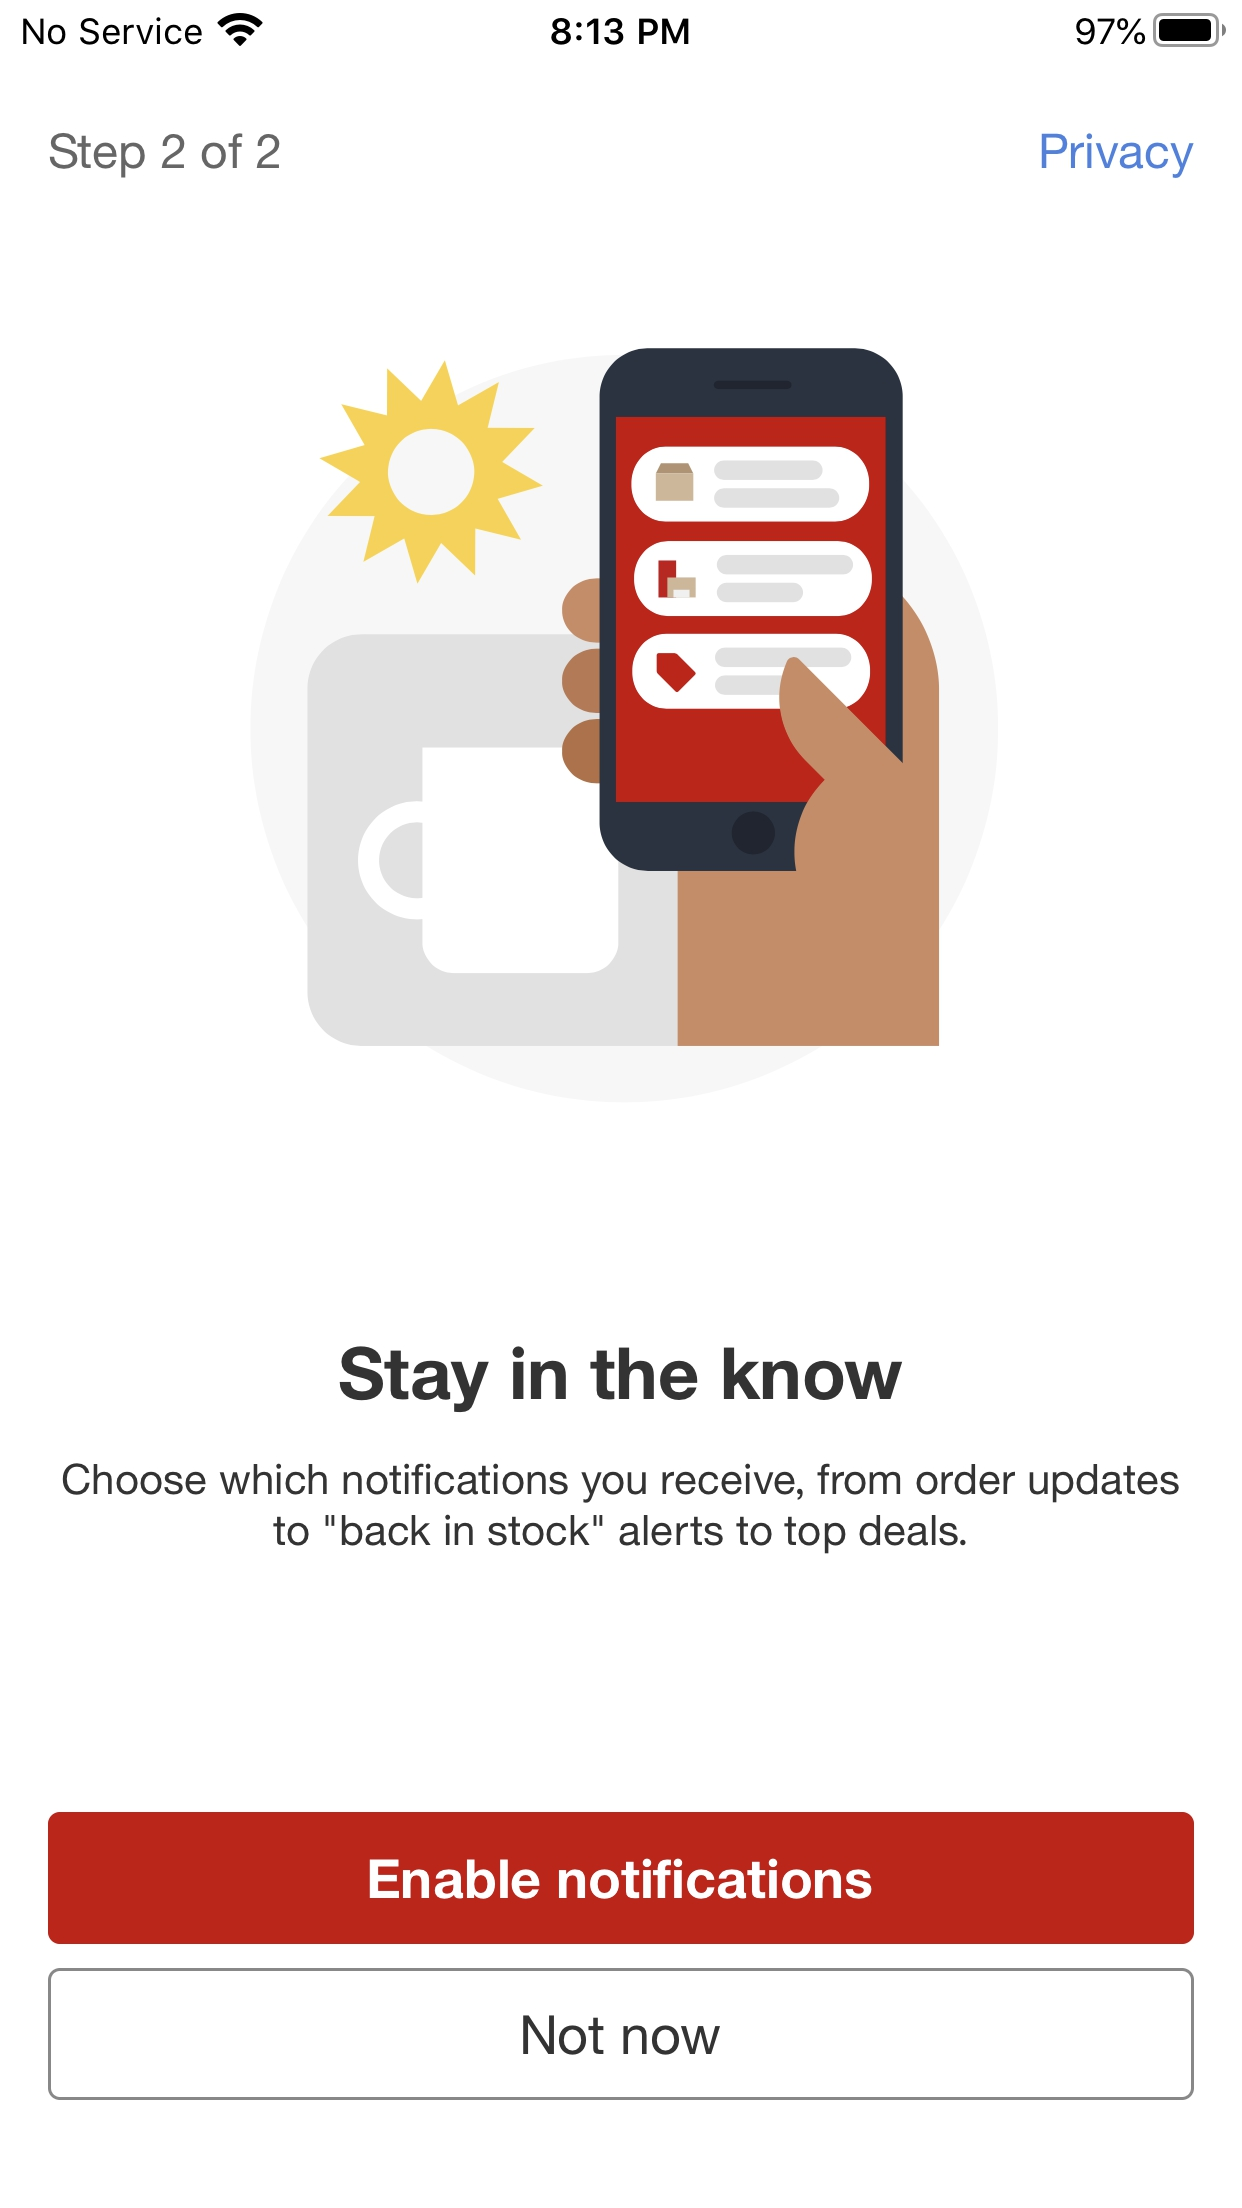Image: (249, 347, 999, 1102)
Text: (62, 1463, 1178, 1554), (340, 1347, 902, 1412), (49, 133, 281, 177), (1042, 133, 1193, 179)
TextButton: (49, 1812, 1193, 1944), (49, 1968, 1193, 2100)
UpperTaskBar: (2, 5, 1242, 49)
